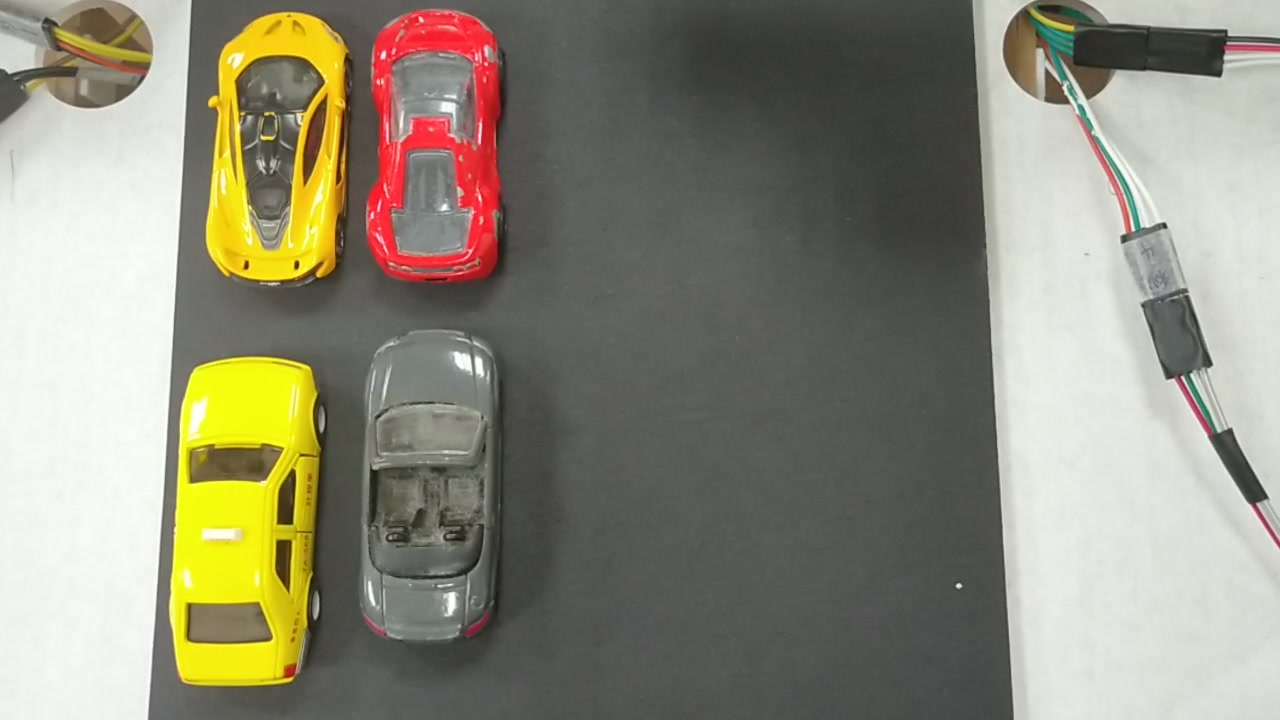car: (174, 355, 316, 686), (357, 338, 492, 643), (206, 16, 340, 286), (376, 9, 500, 277)
